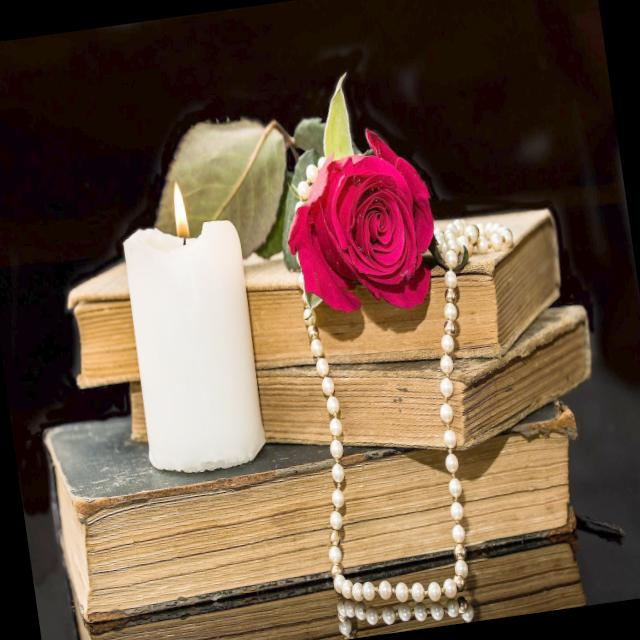Fire_Save: (110, 172, 272, 480)
